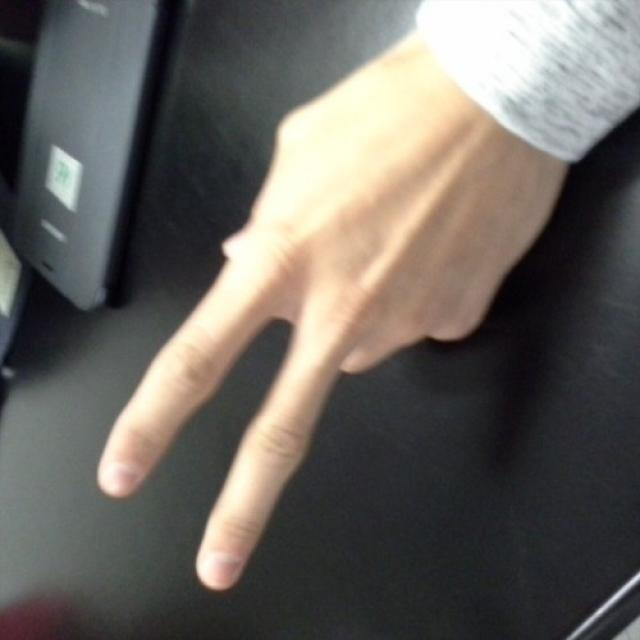scissors: (96, 104, 510, 591)
